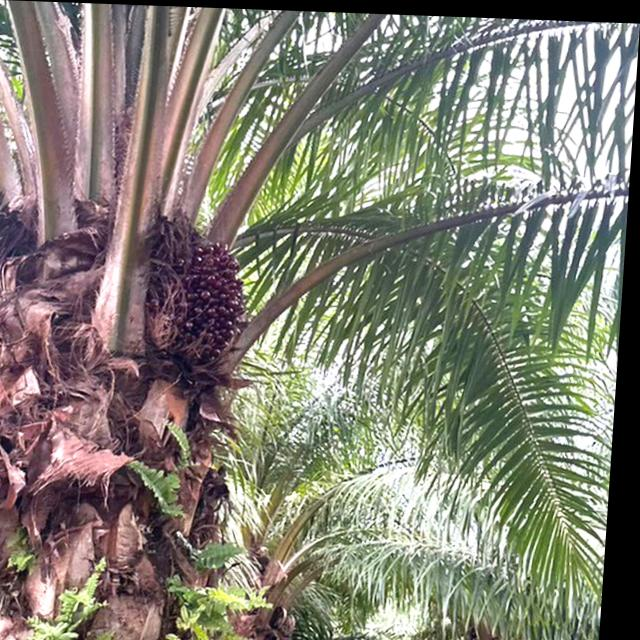ripe: (157, 229, 256, 371)
